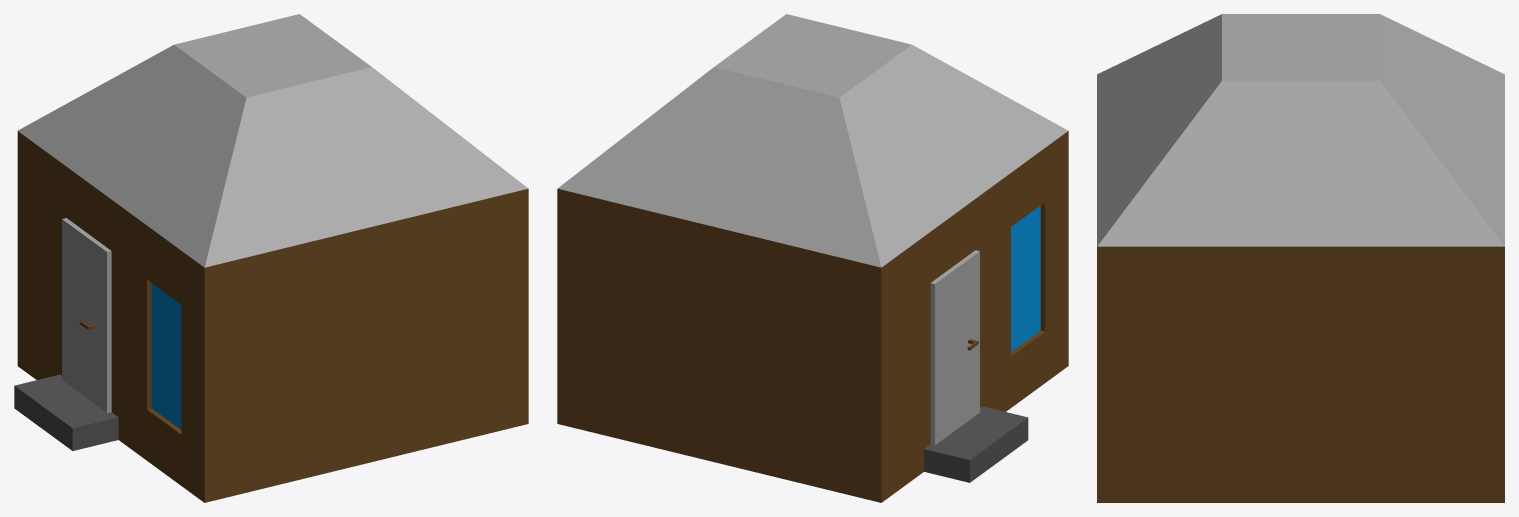
Rendered from HomeWithMaterials.fbx.
The picture shows the model from 3 angles, left to right: view 1: azimuth 30°, elevation 25°; view 2: azimuth 150°, elevation 25°; view 3: azimuth 270°, elevation 25°; orthographic projection. The views are drawn at different scales.
Parts seen in each view (by area): view 1: Cube; view 2: Cube; view 3: Cube.
Boxes of the visible parts, left/top/right/bottom form: Cube: left=14, top=14, right=528, bottom=502; Cube: left=557, top=14, right=1068, bottom=502; Cube: left=1097, top=14, right=1504, bottom=502.
Bounding box in the file's own units: 1021 × 894 × 894.
